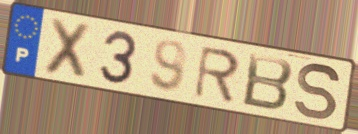3: (98, 30, 139, 87)
9: (149, 39, 189, 94)
B: (240, 51, 295, 114)
R: (192, 44, 242, 105)
S: (293, 61, 343, 123)
X: (40, 15, 94, 83)
